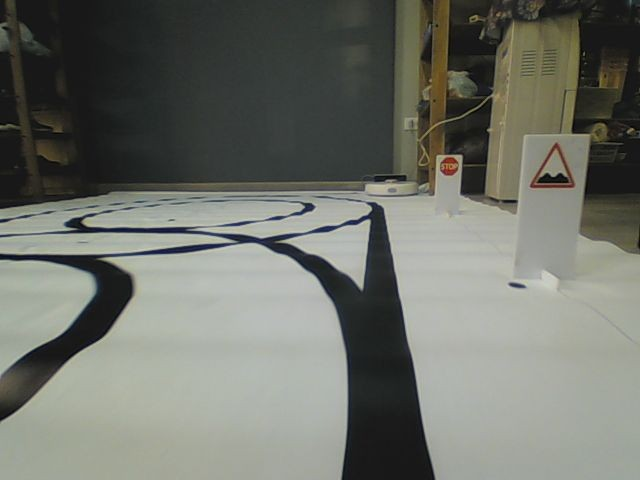Stop: (438, 157, 460, 176)
